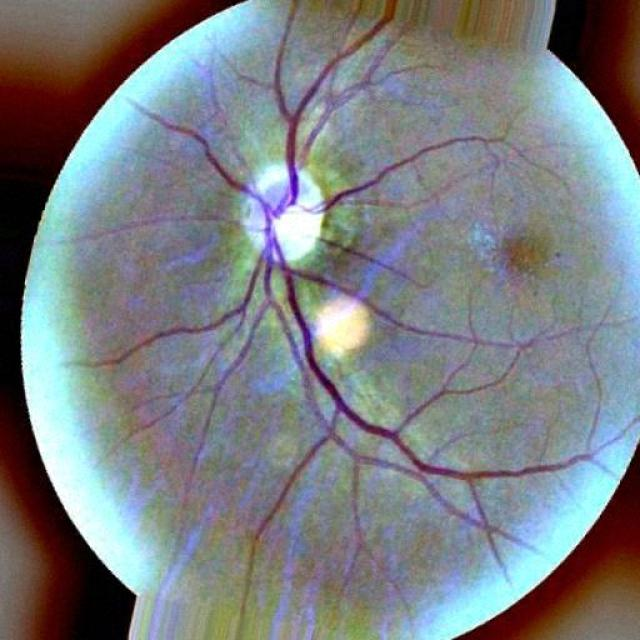Macula: (489, 225, 552, 287)
Nerves: (145, 74, 470, 436), (274, 10, 389, 208), (281, 265, 394, 438), (208, 276, 252, 328), (406, 450, 464, 475), (285, 120, 298, 206)
Optic Disk: (232, 171, 330, 263)
